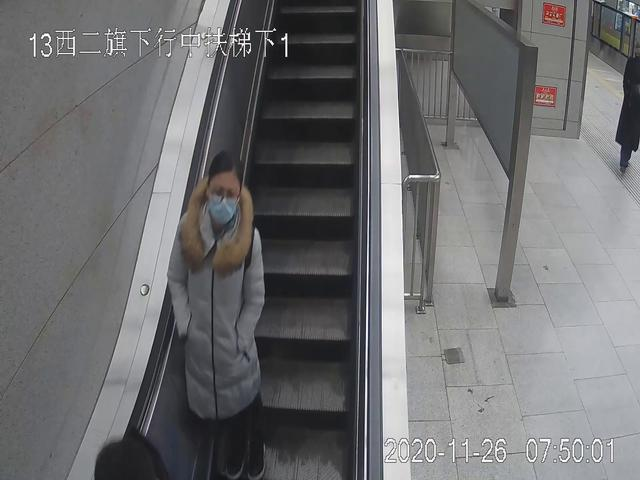person: (168, 153, 266, 480)
